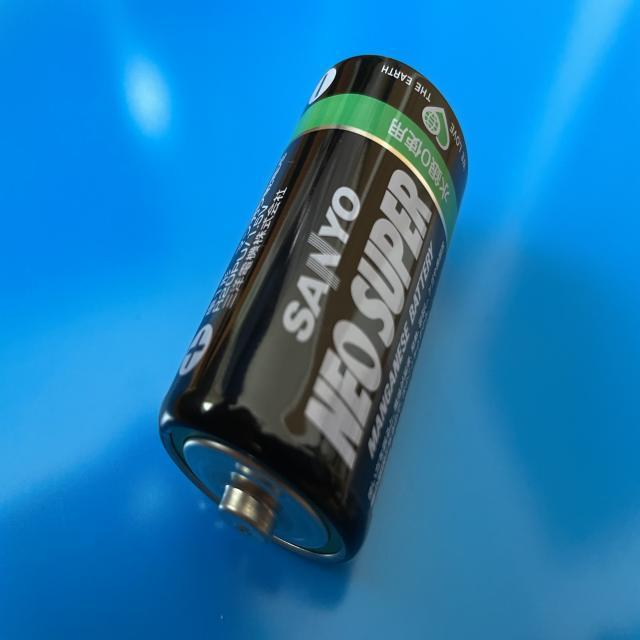hazardous waste: (157, 52, 471, 570)
